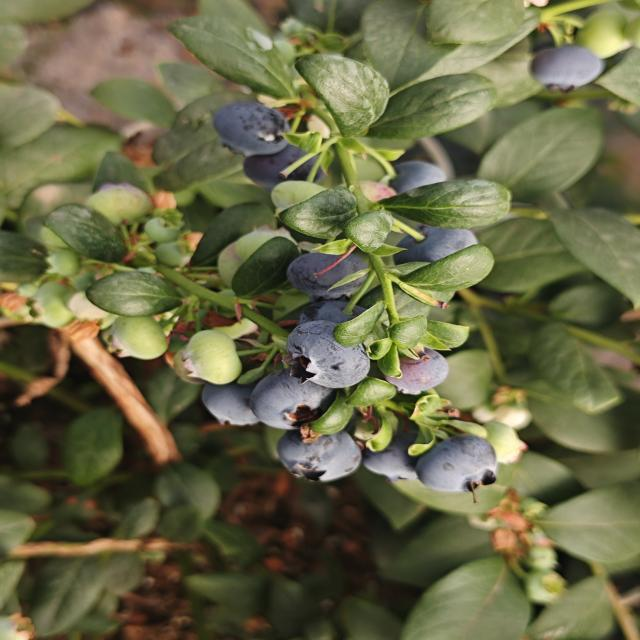ripe: (280, 318, 373, 392), (391, 216, 496, 280), (411, 432, 502, 501), (273, 424, 365, 486), (234, 143, 331, 197), (210, 99, 293, 160), (283, 248, 372, 302), (359, 421, 431, 485), (246, 367, 324, 424), (525, 43, 607, 97), (378, 149, 461, 202), (379, 344, 452, 397), (193, 381, 255, 425)
